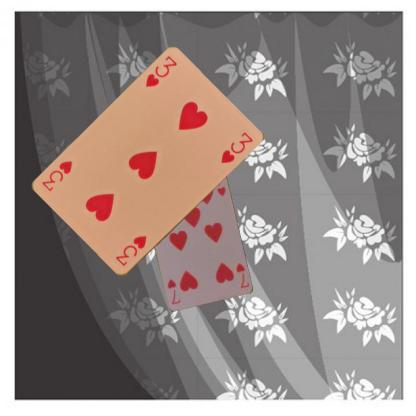3h: (142, 53, 178, 89), (113, 234, 148, 268)
7h: (233, 260, 250, 289)
